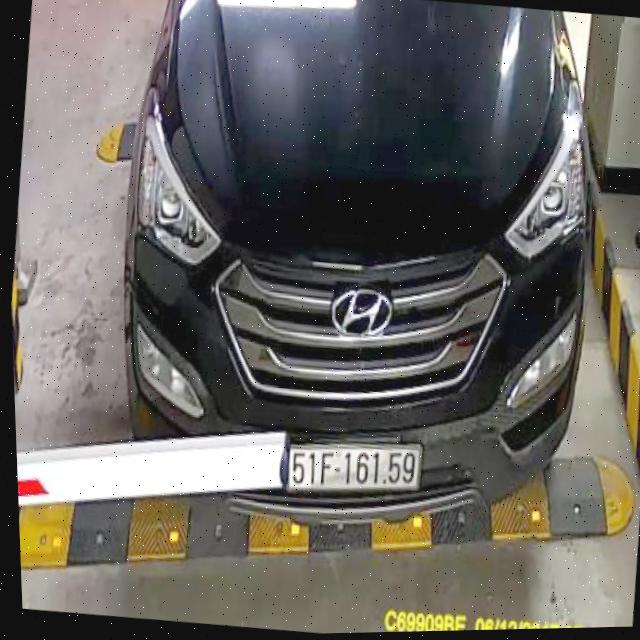car: (80, 0, 639, 568)
plate: (283, 431, 426, 505)
